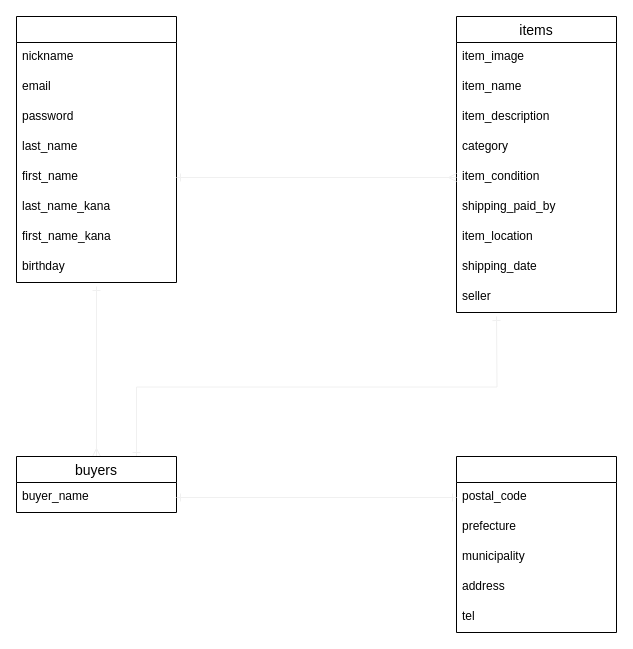
The diagram is 633 pixels wide and 649 high, and some of its shapes have lost their labels. The shapes that lost their labels are listed below. From the top down, each one's box as (x1, y1, x2, y2) in pixels, then its label:
(16, 16, 176, 282): users
(456, 456, 616, 632): ships
